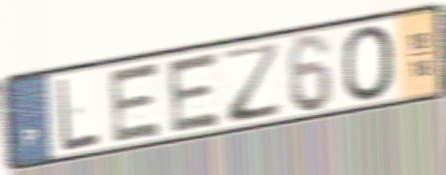6: (284, 31, 336, 116)
E: (107, 58, 166, 146), (166, 48, 224, 137)
L: (55, 74, 102, 154)
O: (339, 22, 398, 103)
Z: (219, 38, 285, 127)
